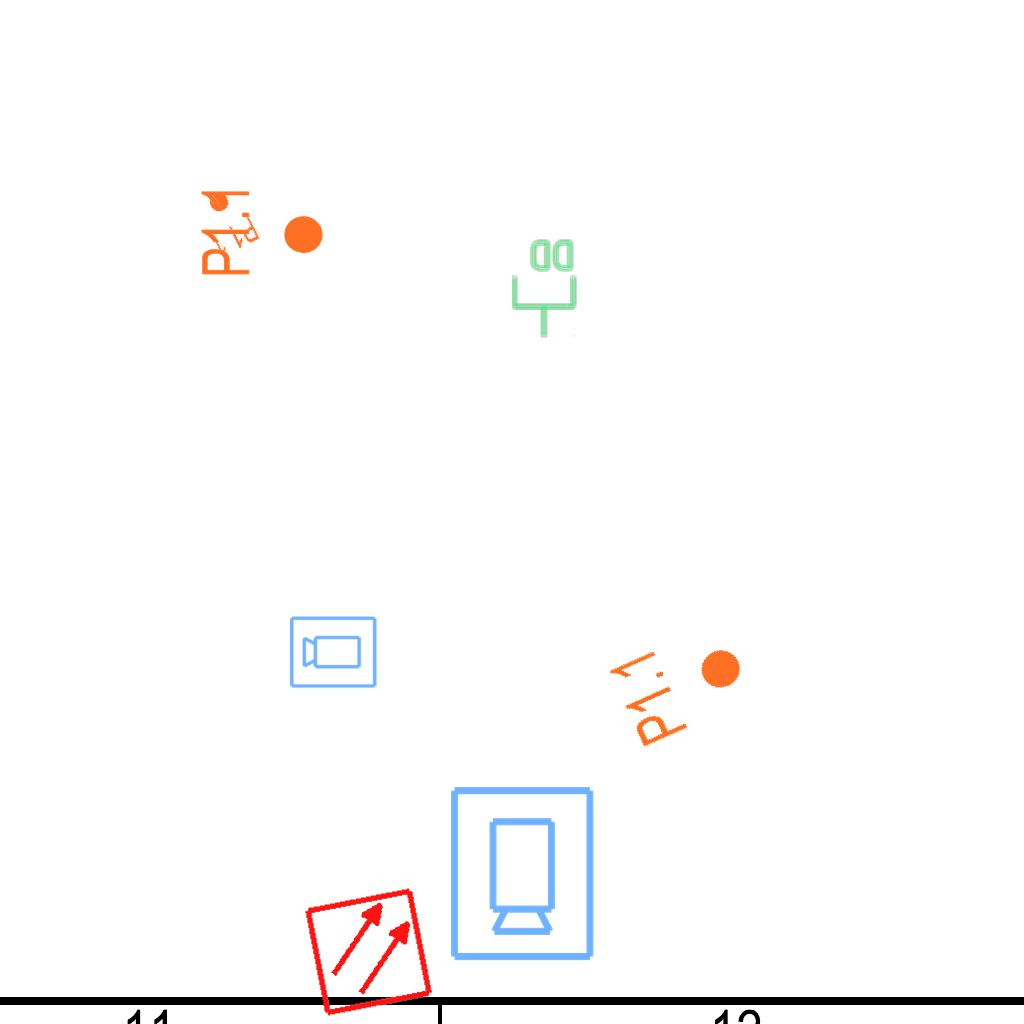Datenanschluss_zweifach: (510, 237, 579, 340)
Downlight_LED_Einbauleuchten_Flur: (604, 614, 759, 752), (198, 185, 326, 278), (191, 182, 263, 260)
KFO_Kamera_mit_Festobjektiv: (444, 782, 598, 964), (288, 613, 379, 690)
RMO_Rauchmelder_optischer: (302, 885, 435, 1018)
